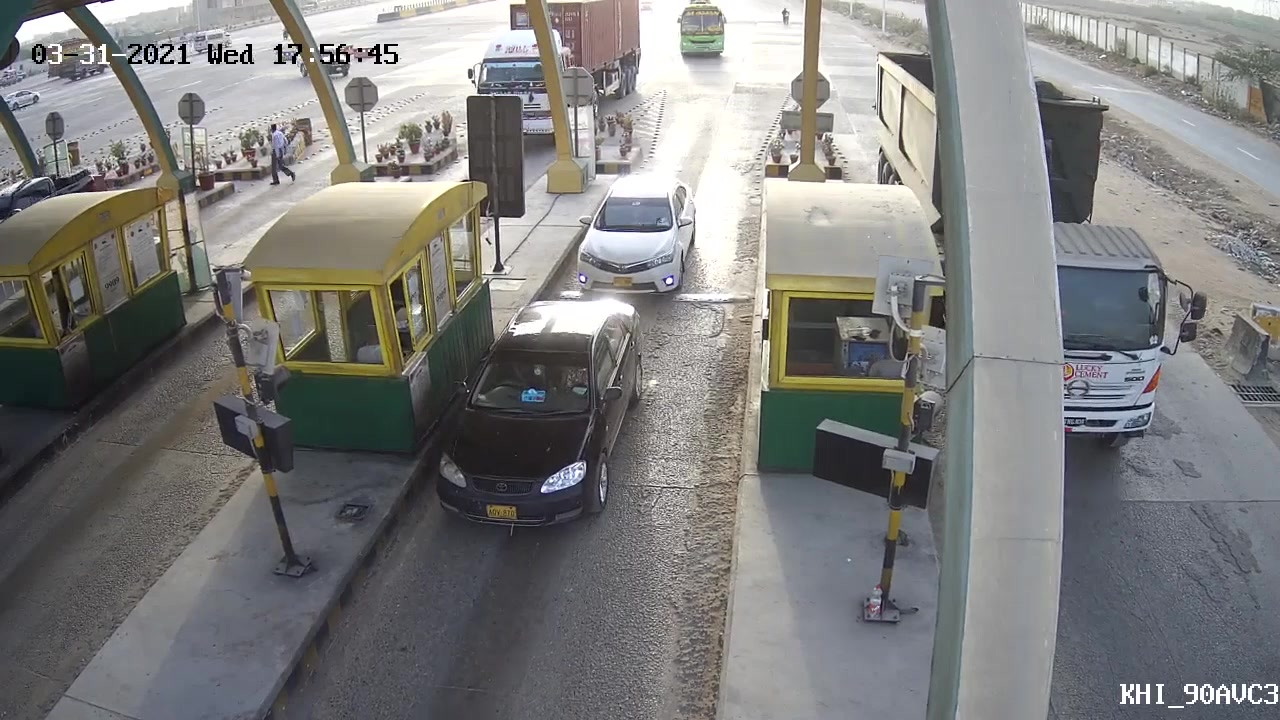F1: (433, 290, 653, 534), (569, 170, 702, 293)
